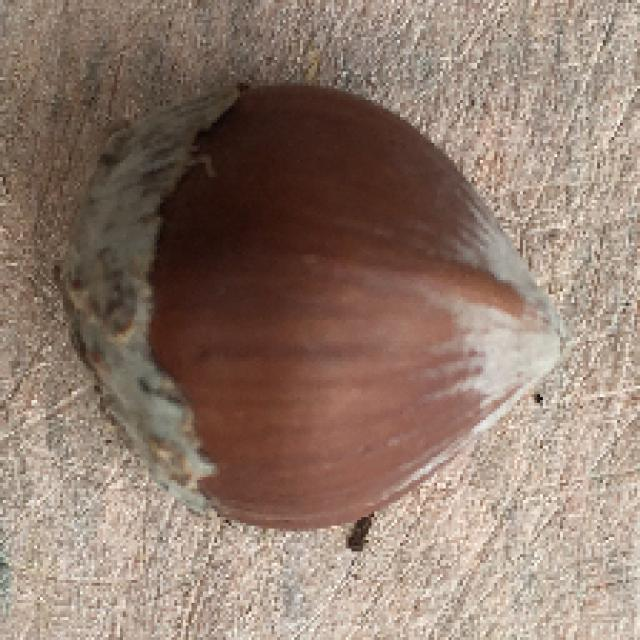DamagedHazelnut: (54, 92, 568, 520)
